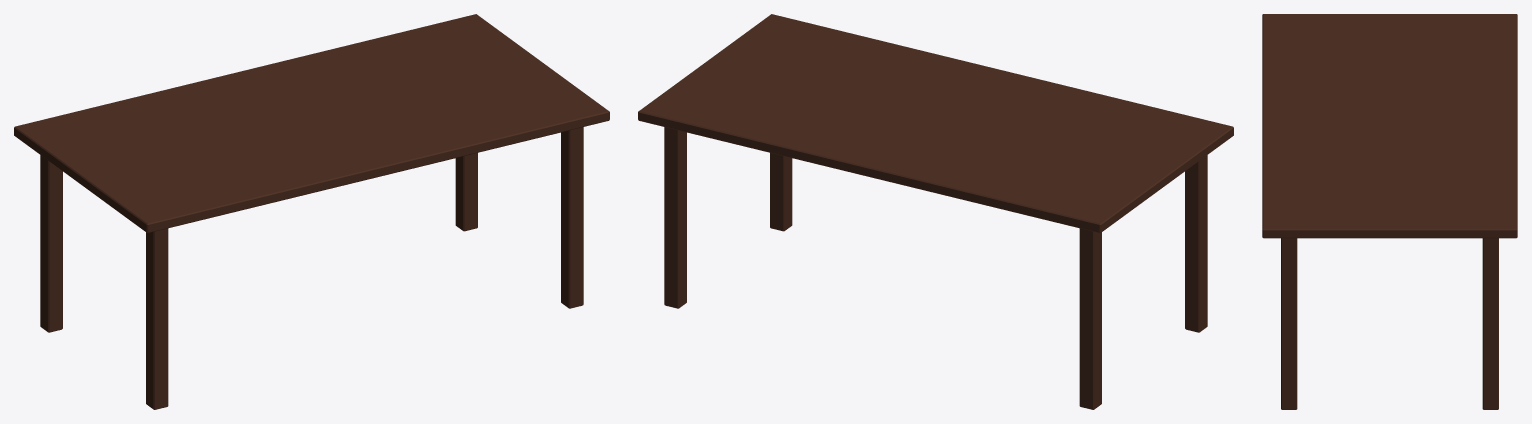
File: TestTable.fbx
3 views of the same model, side by side, from view 1: azimuth 30°, elevation 25°; view 2: azimuth 150°, elevation 25°; view 3: azimuth 270°, elevation 25° (orthographic). The views are drawn at different scales.
Parts seen in each view (by area): view 1: Table; view 2: Table; view 3: Table.
Part boxes in pixels (x1,y1,x2,y2): Table: (14, 14, 609, 409); Table: (638, 14, 1233, 409); Table: (1262, 14, 1517, 409).
Size of the model in its own units: 200 by 81.47 by 100.
